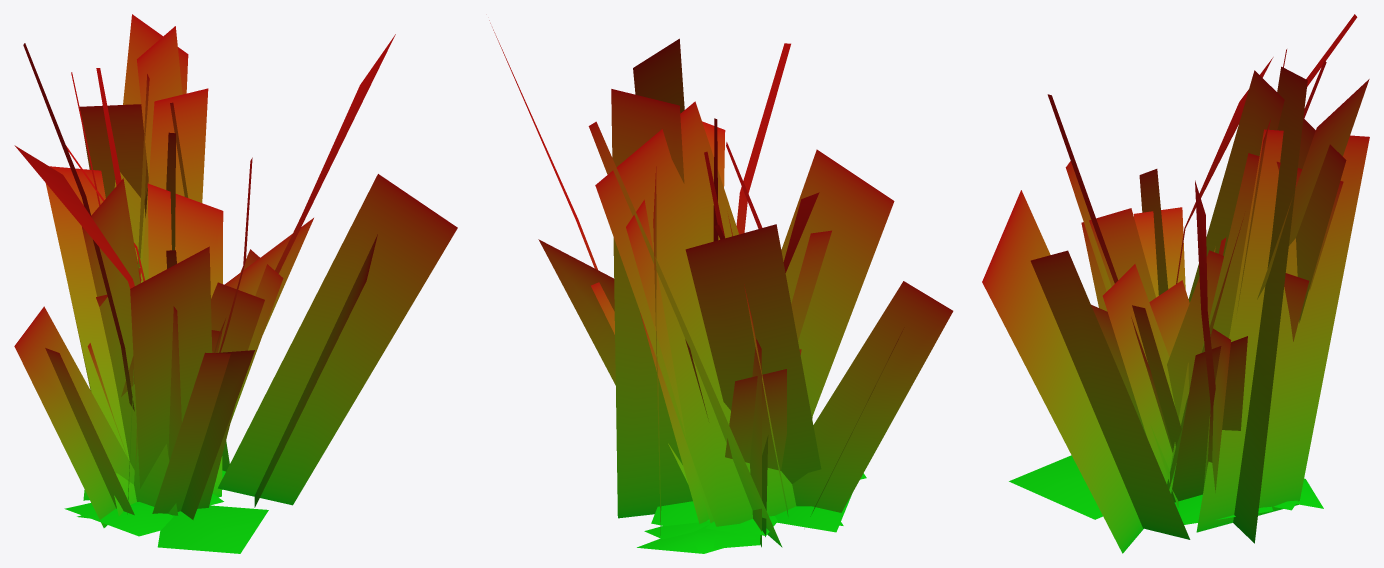
Rendered from Var13_LOD3.fbx.
3 renders of one model, left to right at view 1: azimuth 30°, elevation 25°; view 2: azimuth 150°, elevation 25°; view 3: azimuth 270°, elevation 25°, orthographic. The views are drawn at different scales.
Parts seen in each view (by area): view 1: _0337_Var13_LOD3; view 2: _0337_Var13_LOD3; view 3: _0337_Var13_LOD3.
Boxes of the visible parts, <box> form: _0337_Var13_LOD3: <box>14,14,457,553</box>; _0337_Var13_LOD3: <box>489,20,953,553</box>; _0337_Var13_LOD3: <box>982,14,1369,553</box>.
Bounding box in the file's own units: 13.11 × 13.19 × 10.03.
